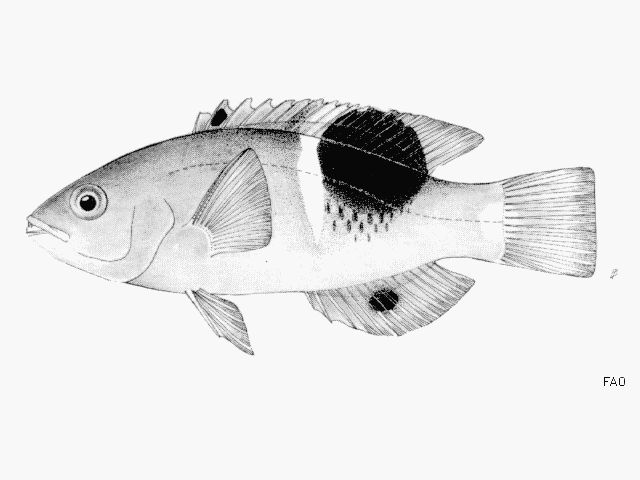fish: (27, 98, 599, 356)
